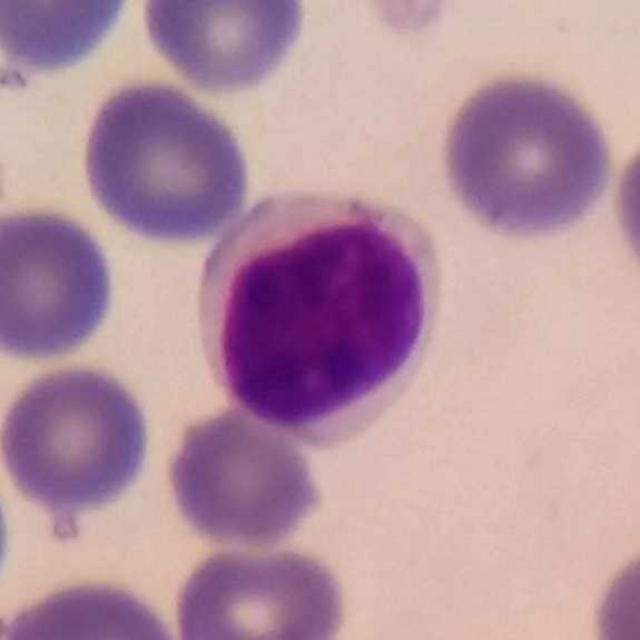Lymphocyte: (199, 187, 453, 453)
RBC: (433, 65, 620, 244), (75, 74, 256, 248), (160, 401, 328, 552), (0, 358, 157, 518), (0, 201, 121, 365), (169, 536, 353, 640), (135, 0, 314, 97), (0, 0, 147, 90), (3, 571, 187, 640), (606, 112, 640, 297), (347, 0, 490, 43), (584, 534, 640, 640), (1, 1, 55, 98)
